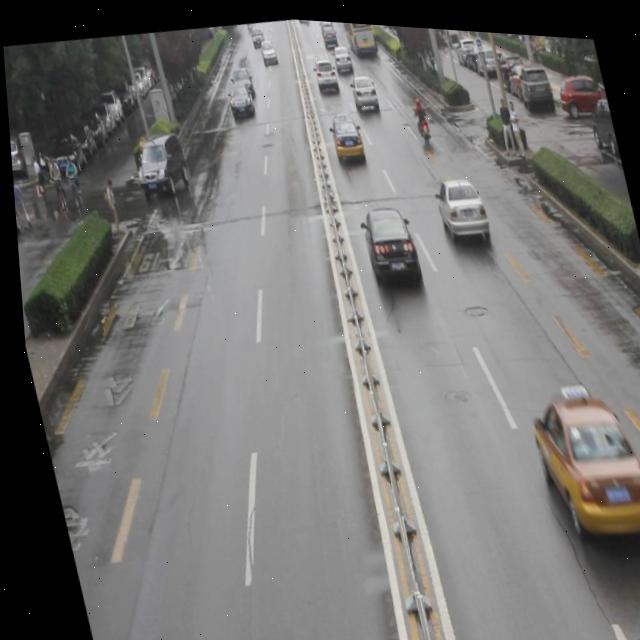car: (515, 364, 640, 546), (353, 196, 420, 288), (428, 166, 490, 244), (325, 109, 362, 163)
truck: (128, 133, 189, 198)
